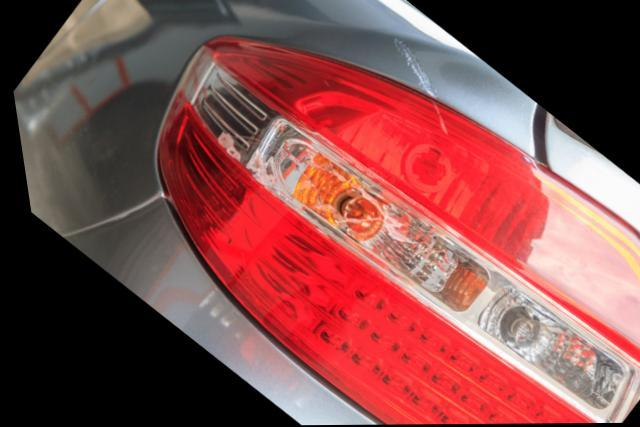lamp broken: (150, 36, 640, 425)
scratch: (392, 32, 437, 99)
